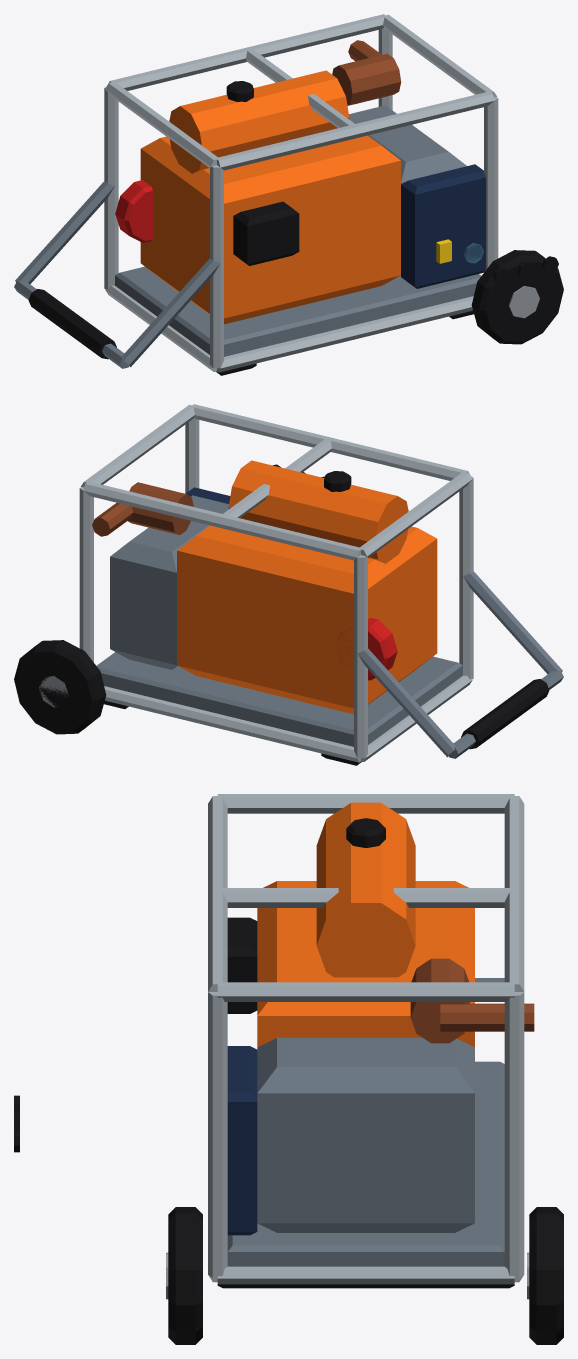
File: UTILITY_11.obj
3 views of the same model, one above another, from view 1: azimuth 30°, elevation 25°; view 2: azimuth 150°, elevation 25°; view 3: azimuth 270°, elevation 25° (orthographic). The views are drawn at different scales.
Visible parts, largest first — view 1: UTILITY_11__engine, UTILITY_11__cage, UTILITY_11__skid, UTILITY_11__fuel_tank, UTILITY_11__panel, UTILITY_11__wheel, UTILITY_11__handle, UTILITY_11__air_filter, UTILITY_11__alternator, UTILITY_11__muffler, UTILITY_11__handle_grip, UTILITY_11__recoil (+4 smaller); view 2: UTILITY_11__engine, UTILITY_11__cage, UTILITY_11__skid, UTILITY_11__alternator, UTILITY_11__fuel_tank, UTILITY_11__wheel, UTILITY_11__handle, UTILITY_11__handle_grip, UTILITY_11__muffler, UTILITY_11__recoil, UTILITY_11__exhaust, UTILITY_11__fuel_cap (+1 smaller); view 3: UTILITY_11__alternator, UTILITY_11__cage, UTILITY_11__engine, UTILITY_11__skid, UTILITY_11__fuel_tank, UTILITY_11__wheel, UTILITY_11__panel, UTILITY_11__muffler, UTILITY_11__air_filter, UTILITY_11__exhaust, UTILITY_11__feet, UTILITY_11__fuel_cap.
Boxes of the visible parts, x1,y1,x2,y2 form: UTILITY_11__engine: (140,135,400,324); UTILITY_11__cage: (104,14,498,372); UTILITY_11__skid: (115,266,481,356); UTILITY_11__fuel_tank: (169,70,349,173); UTILITY_11__panel: (401,164,485,288); UTILITY_11__wheel: (471,250,563,344); UTILITY_11__handle: (14,181,220,368); UTILITY_11__air_filter: (233,201,299,265); UTILITY_11__alternator: (349,105,466,275); UTILITY_11__muffler: (332,53,401,105); UTILITY_11__handle_grip: (28,289,116,359); UTILITY_11__recoil: (115,180,152,242); UTILITY_11__engine: (177,525,437,714); UTILITY_11__cage: (79,404,473,762); UTILITY_11__skid: (96,652,462,746); UTILITY_11__alternator: (110,495,228,669); UTILITY_11__fuel_tank: (228,460,408,563); UTILITY_11__wheel: (14,640,106,734); UTILITY_11__handle: (357,571,563,758); UTILITY_11__handle_grip: (461,679,549,749); UTILITY_11__muffler: (128,482,193,534); UTILITY_11__recoil: (336,617,397,680); UTILITY_11__exhaust: (92,503,132,536); UTILITY_11__fuel_cap: (324,471,351,491); UTILITY_11__alternator: (257,1037,474,1232); UTILITY_11__cage: (208,794,524,1284); UTILITY_11__engine: (257,881,474,1046); UTILITY_11__skid: (227,1061,504,1266); UTILITY_11__fuel_tank: (316,802,415,977); UTILITY_11__wheel: (168,1207,563,1344); UTILITY_11__panel: (227,1046,257,1235); UTILITY_11__muffler: (410,958,469,1043); UTILITY_11__air_filter: (227,917,257,1013); UTILITY_11__exhaust: (440,1003,534,1031); UTILITY_11__feet: (217,1284,514,1288); UTILITY_11__fuel_cap: (346,818,385,847).
Bounding box in the file's own units: 1.42 × 0.82 × 1.11.
